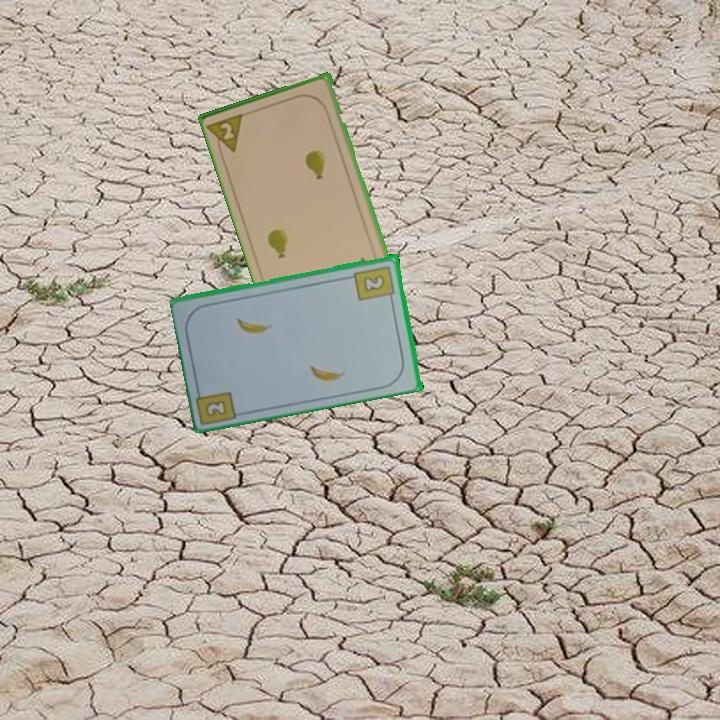2b: (351, 262, 398, 304), (202, 396, 230, 420)
2p: (205, 110, 249, 159)
